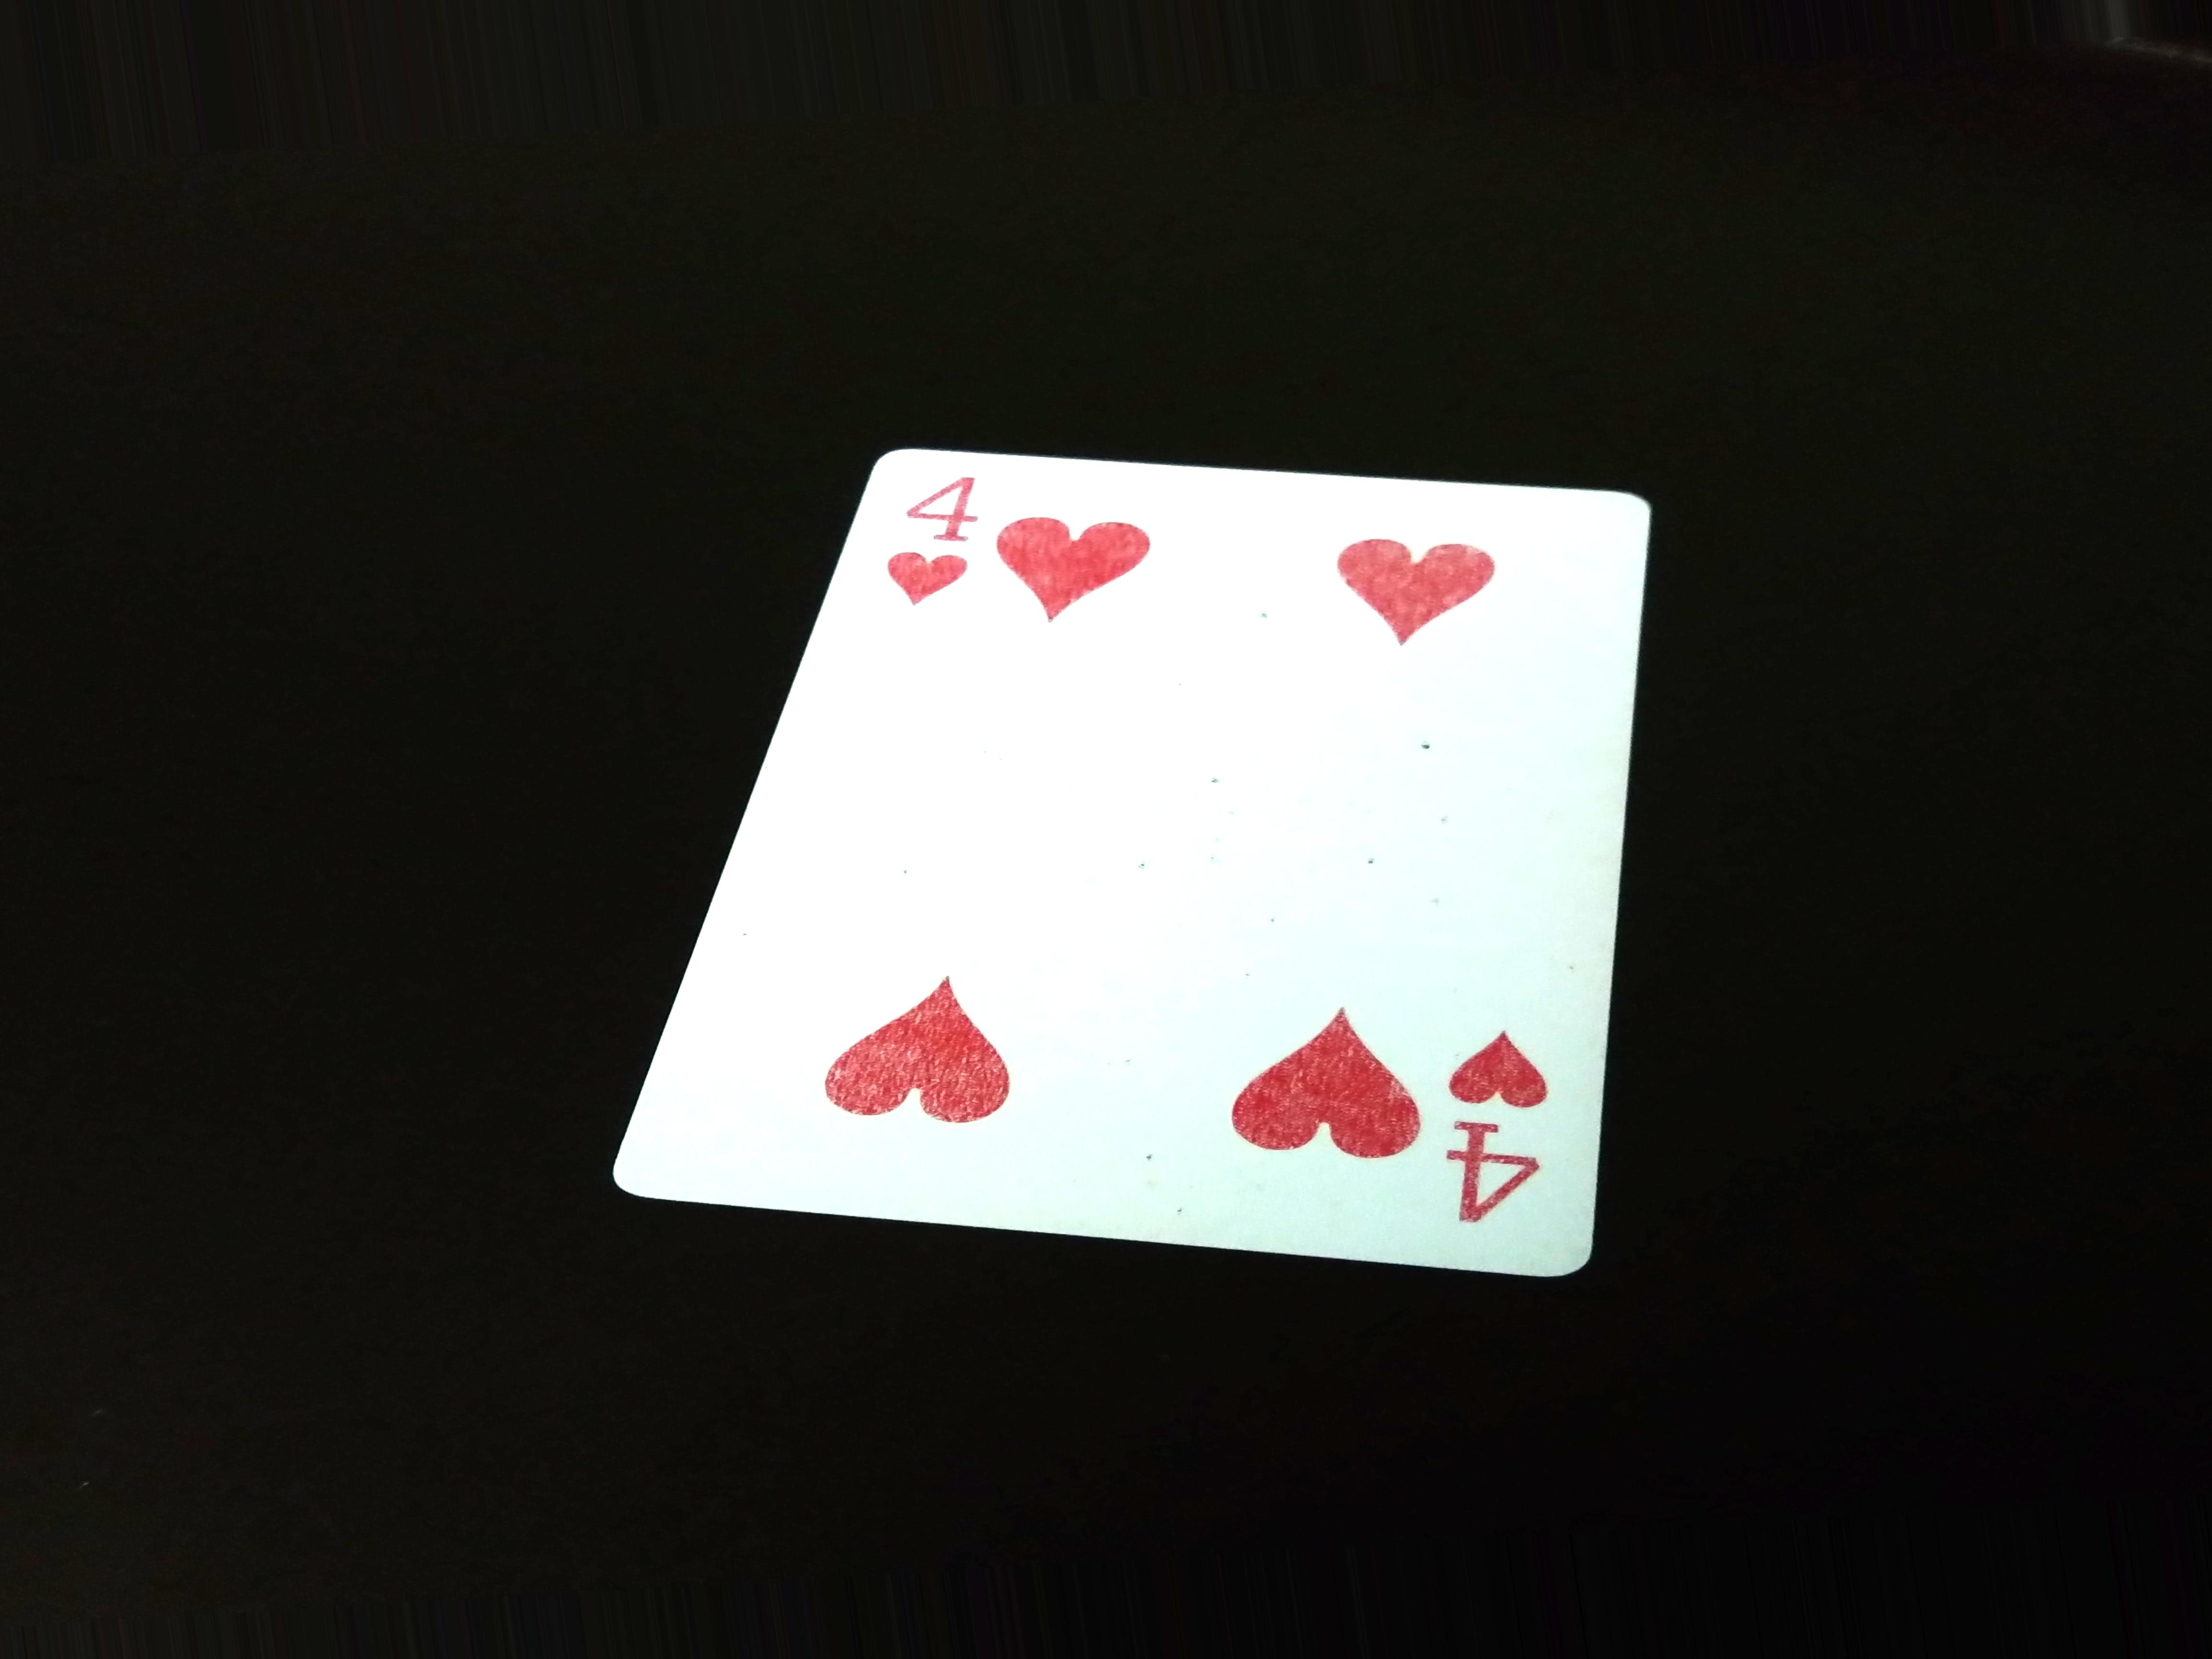4H: (885, 460, 984, 633)
